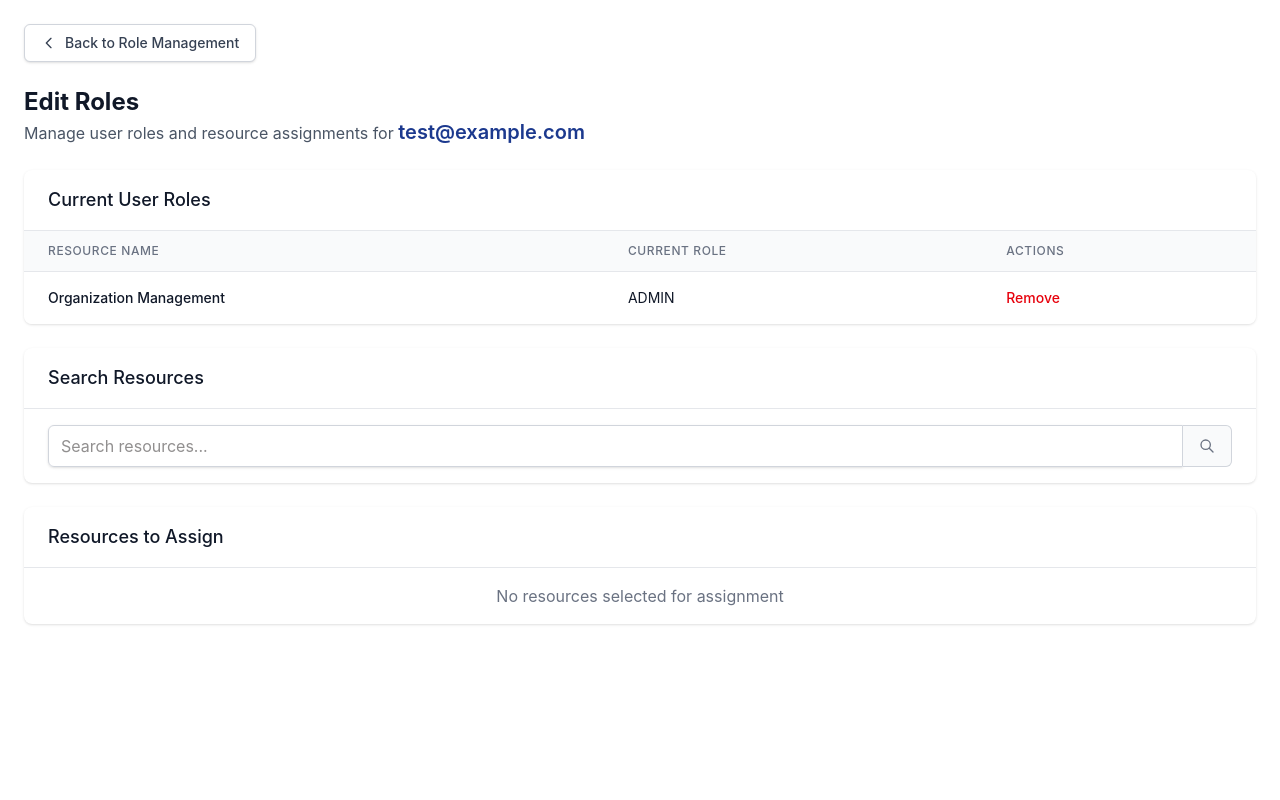
Test: EditRoles › should refresh user roles after successful removal
Check: the heading "Current User Roles" is shown, box [48, 189, 211, 210]
// Click remove button in table
Click the button "Remove": (1033, 298) [1006, 288, 1060, 308]
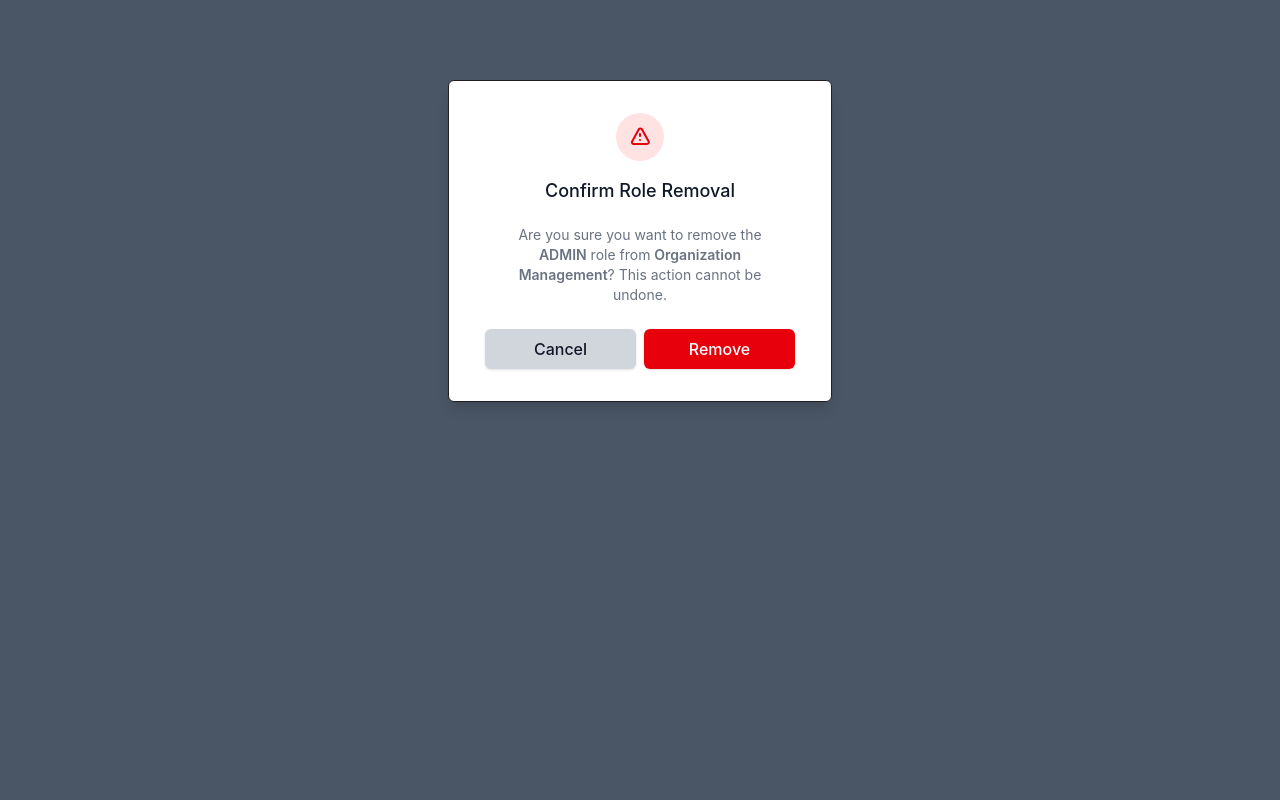
Click the button "Remove": (720, 349) [644, 329, 795, 369]
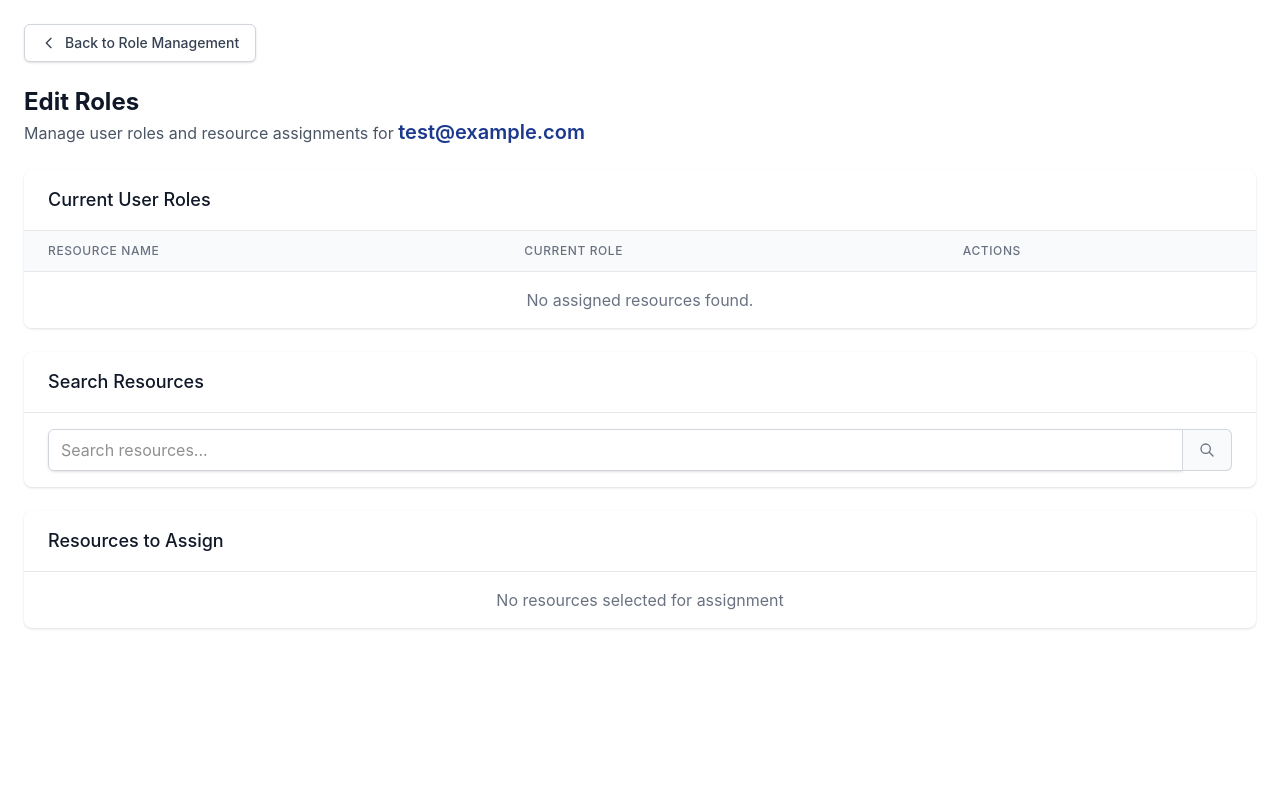
Check: the text "No assigned resources found." is shown, box [24, 272, 1256, 328]
